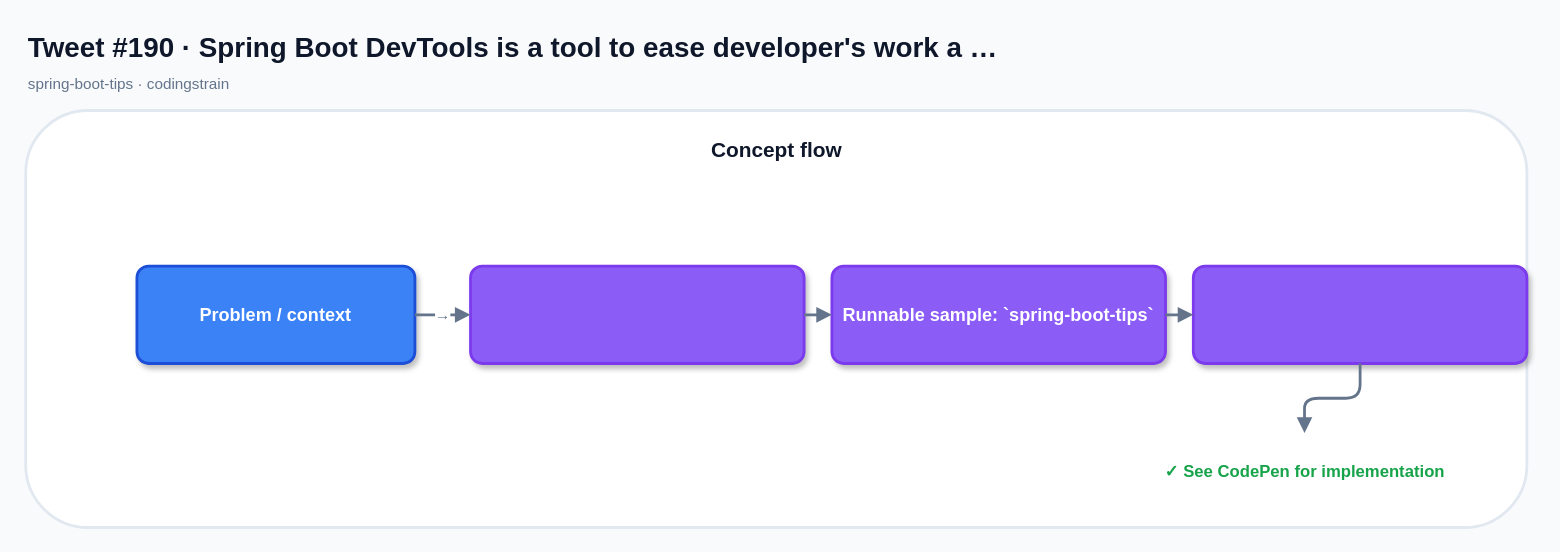
Some shapes in this 1560 by 552 pixel diagram are drawn without their labels. The shapes that lost their labels are listed below. From the top down, each one's centre as x and y in pixels, then its label:
pixel 638 316: #SpringBoot #SoftwareDevelopment
pixel 1361 316: Architecture diagram + Carbon CodePen below
